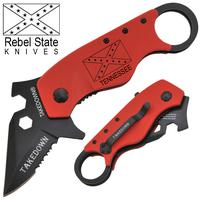knife: (1, 13, 98, 200)
